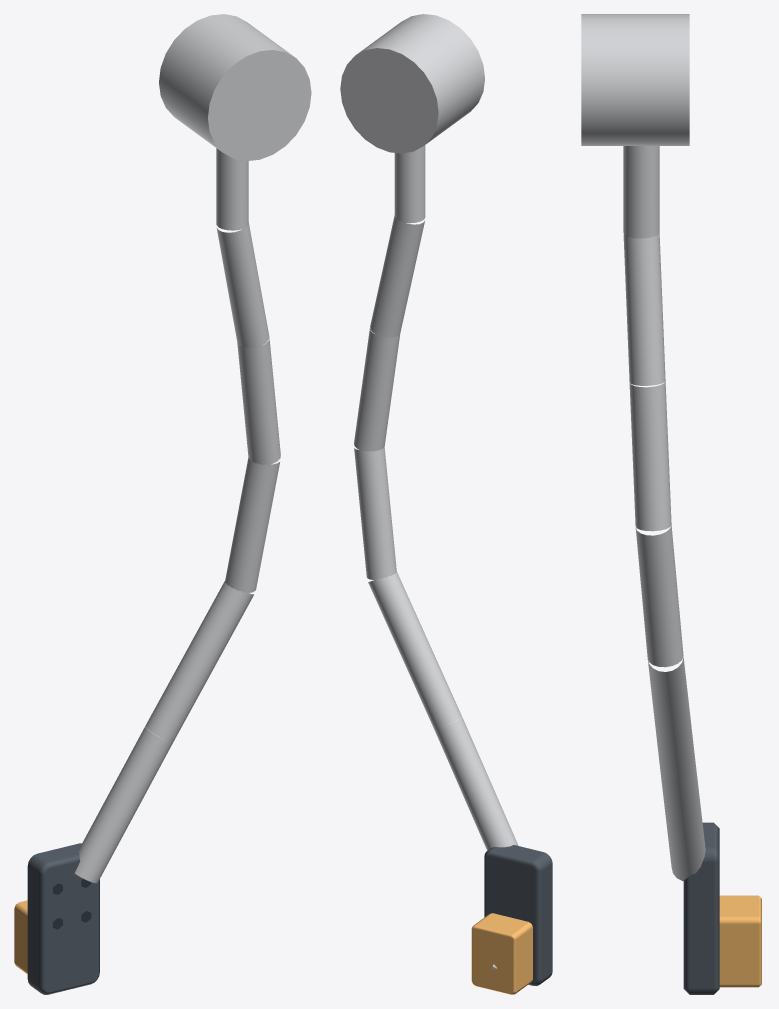
The model's file is tonearm.glb.
3 renders of one model, left to right at view 1: azimuth 30°, elevation 25°; view 2: azimuth 150°, elevation 25°; view 3: azimuth 270°, elevation 25°, orthographic. The views are drawn at different scales.
Visible parts, largest first — view 1: chrome, dark, orange; view 2: chrome, dark, orange; view 3: chrome, dark, orange.
Boxes of the visible parts, <box> form: chrome: <box>74,14,311,883</box>; dark: <box>27,843,99,994</box>; orange: <box>14,900,27,973</box>; chrome: <box>340,14,518,969</box>; dark: <box>484,845,552,985</box>; orange: <box>471,913,532,994</box>; chrome: <box>581,14,705,881</box>; dark: <box>683,822,719,994</box>; orange: <box>719,895,761,987</box>.
Size of the model in its own units: 47.5 by 190 by 30.46.
